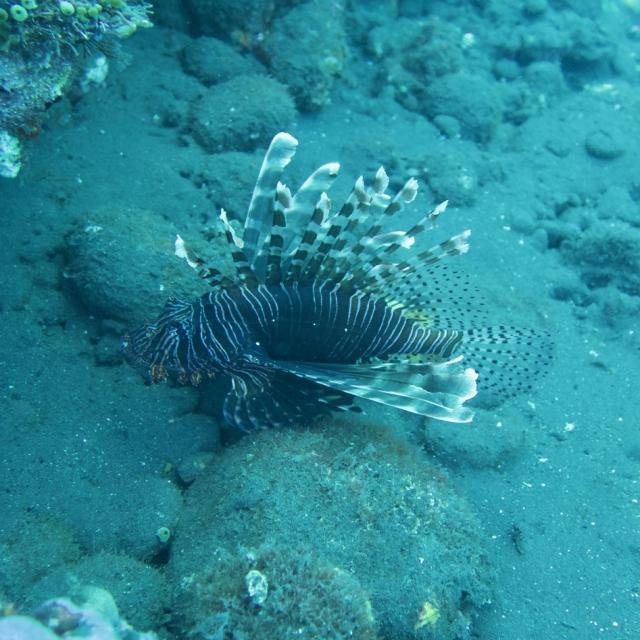Aslan Baligi: (119, 130, 555, 438)
